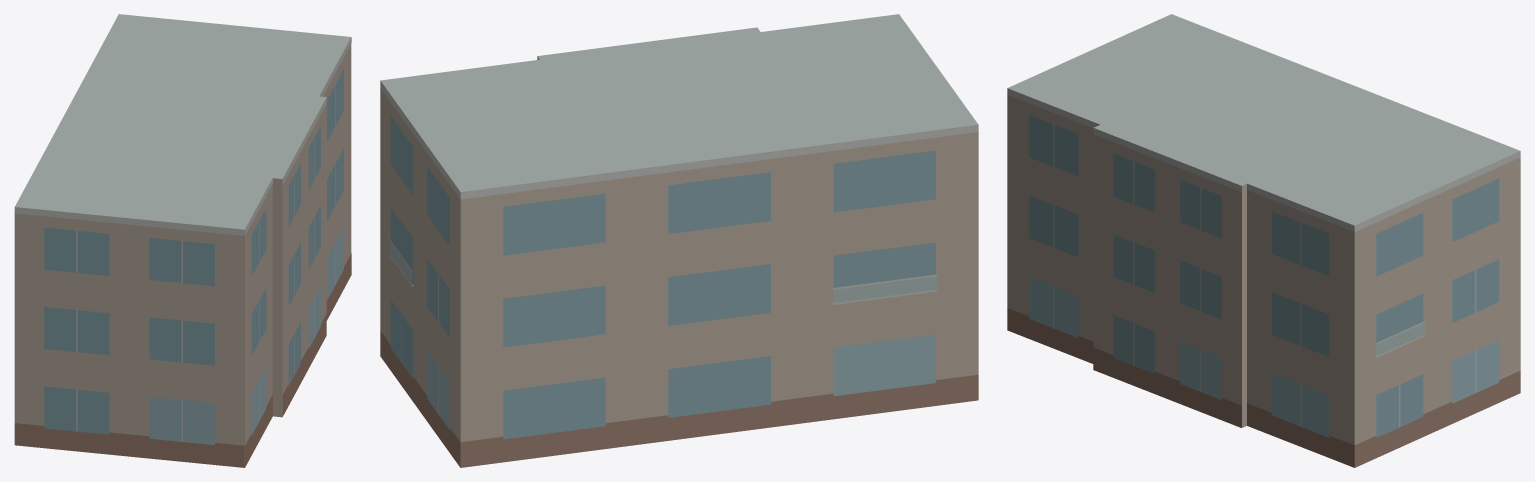
Rendered from survey-upis-32831238.glb.
3 renders of one model, left to right at view 1: azimuth 30°, elevation 25°; view 2: azimuth 150°, elevation 25°; view 3: azimuth 270°, elevation 25°, orthographic. The views are drawn at different scales.
Parts seen in each view (by area): view 1: survey-upis-32831238.tmp; view 2: survey-upis-32831238.tmp; view 3: survey-upis-32831238.tmp.
Boxes of the visible parts, box(x1,y1,x2,y2) form: survey-upis-32831238.tmp: box(14, 14, 351, 467); survey-upis-32831238.tmp: box(380, 14, 978, 467); survey-upis-32831238.tmp: box(1007, 14, 1520, 467).
Bounding box in the file's own units: 17.16 × 9.15 × 17.58.
